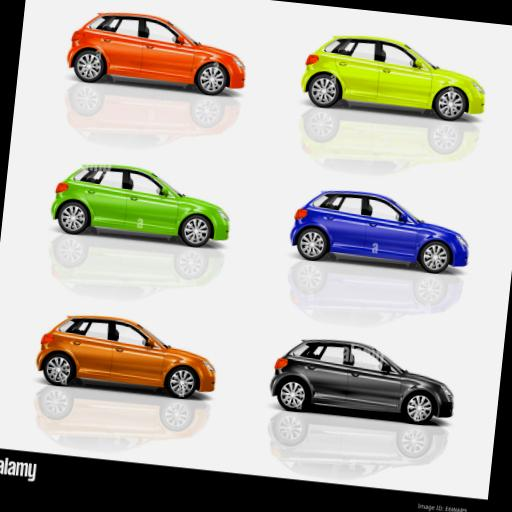hatchback: (271, 340, 453, 424), (302, 37, 483, 120), (291, 191, 467, 273), (37, 316, 214, 397), (68, 14, 244, 94), (52, 166, 228, 246)
